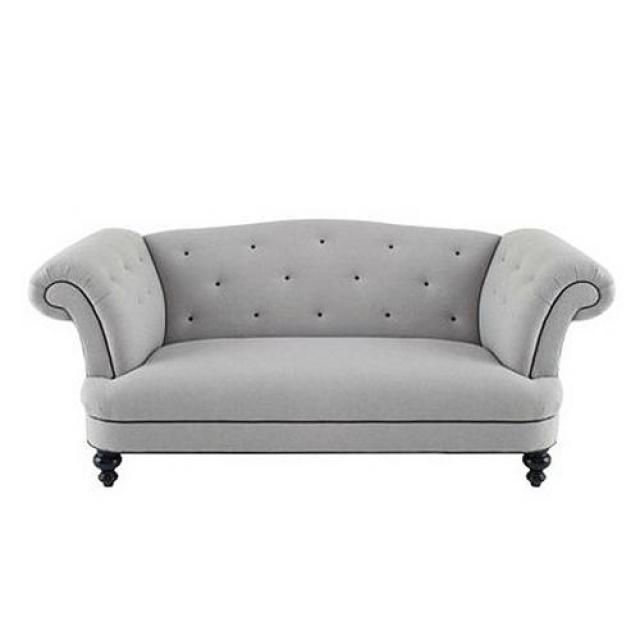sofa: (26, 210, 614, 490)
